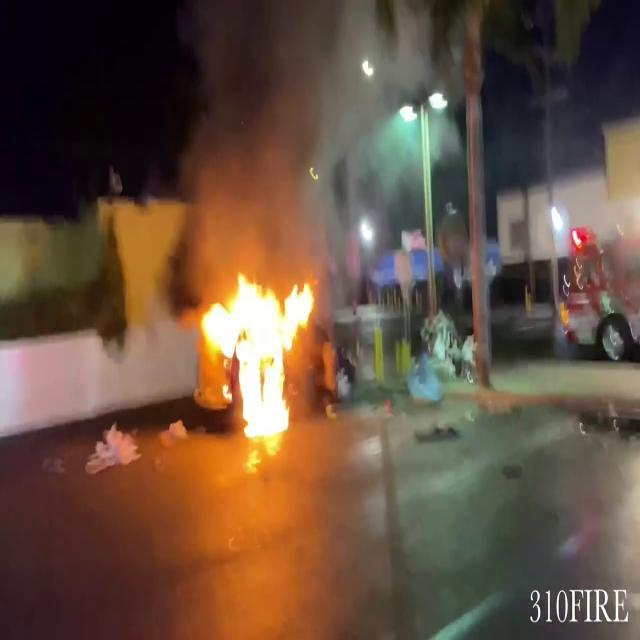Fire: (192, 266, 320, 448)
Smoke: (158, 0, 376, 263)
